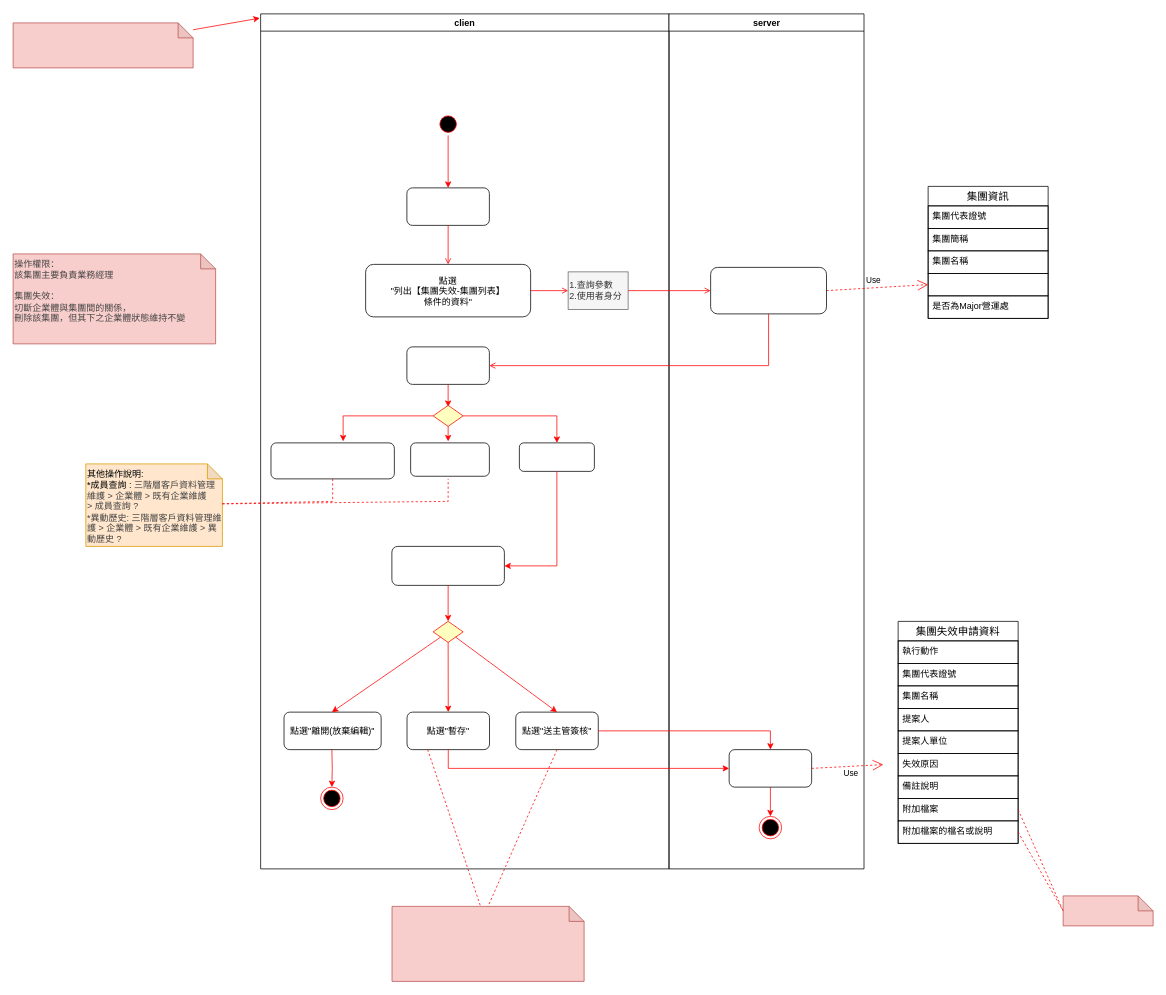
The diagram is 1166 pixels wide and 995 high, and some of its shapes have lost their labels. The shapes that lost their labels are listed below. From the top down, each one's centre as x and y in pixels, then its label:
the point at 102,45: 此功能內容在: help_custom_base.pdf的29頁
the point at 447,206: 輸入查詢條件
the point at 768,290: 查詢集團列表並篩選資料
the point at 987,284: 生效日期
the point at 447,365: 顯示符合條件的 集團列表
the point at 332,460: 點選"查看本集團異動歷史"
the point at 449,459: 點選"成員查詢"
the point at 556,456: 點選"失效"
the point at 447,565: 編輯集團失效申請單 (選擇失效原因)
the point at 770,768: 儲存申請資料
the point at 1107,910: 附加檔案有三個
the point at 487,943: 送主管簽核: 將案件送批示流程 暫存:暫存後，可 至【案件維護查詢】功能進行維護動作
